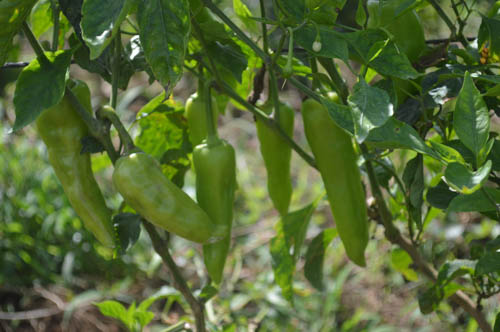ChiliPepper: (46, 85, 118, 250), (119, 152, 224, 246), (307, 98, 365, 264), (192, 136, 240, 288), (252, 105, 295, 217), (177, 96, 219, 144)
